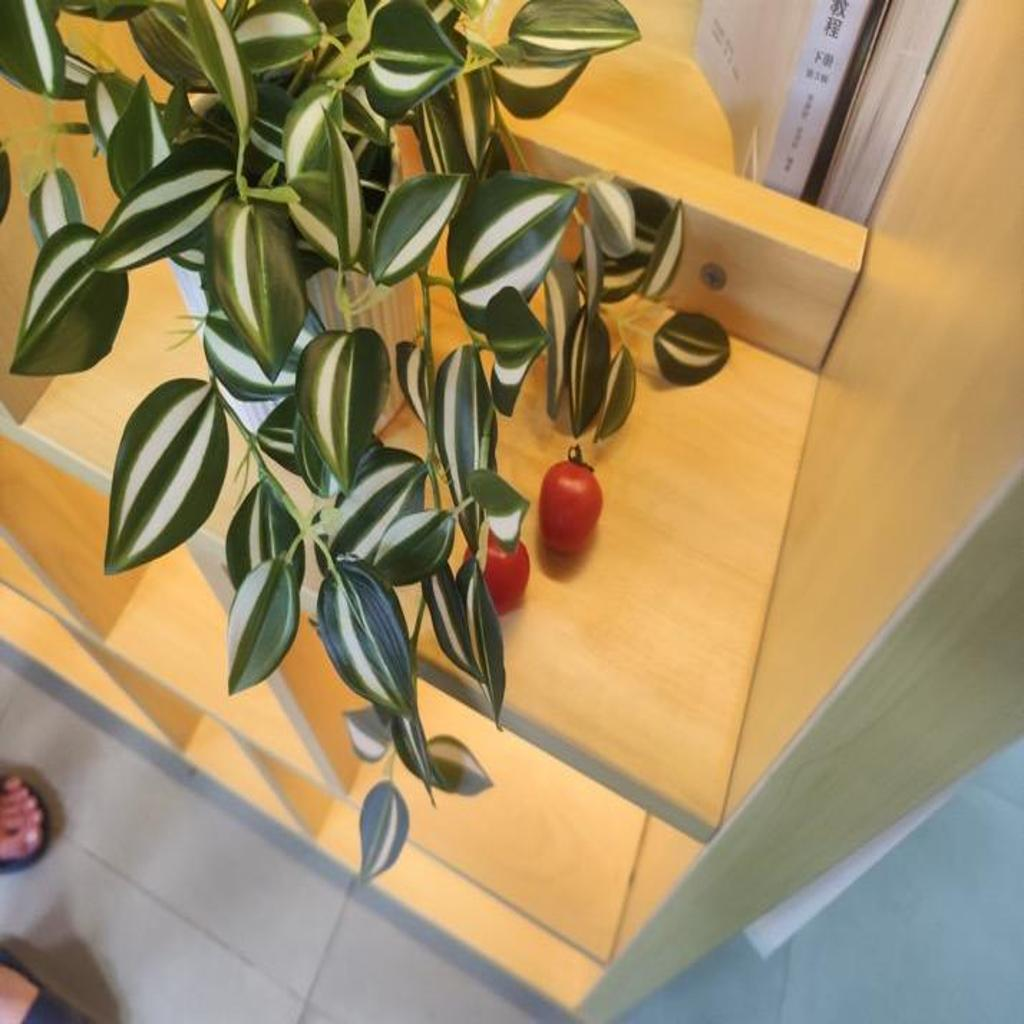tomato: (538, 459, 603, 564), (463, 531, 532, 618)
